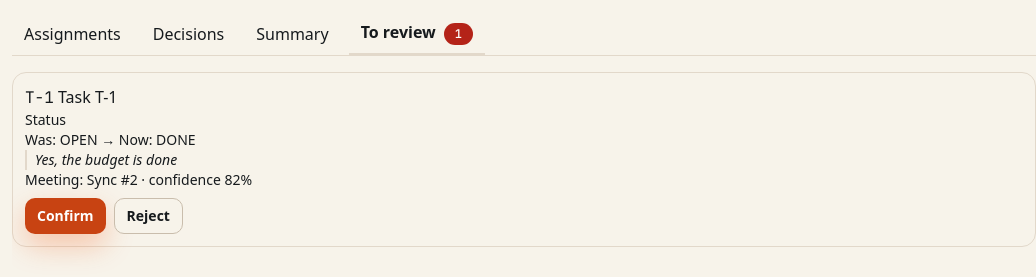
Test case: review queue (D-14) › refetches the queue after a 409 so the handled item and counter go away
Click the button "Confirm": (65, 216) [25,198,106,234]
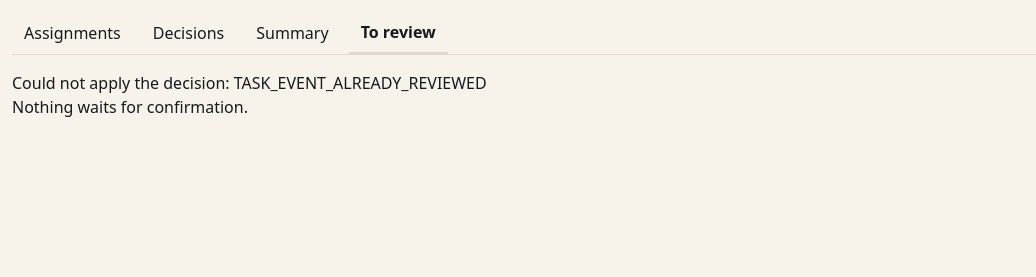
Check: the text "Nothing waits for confirmation." is shown, box [12,96,248,118]
Check: the text with test id "review-counter" is gone
